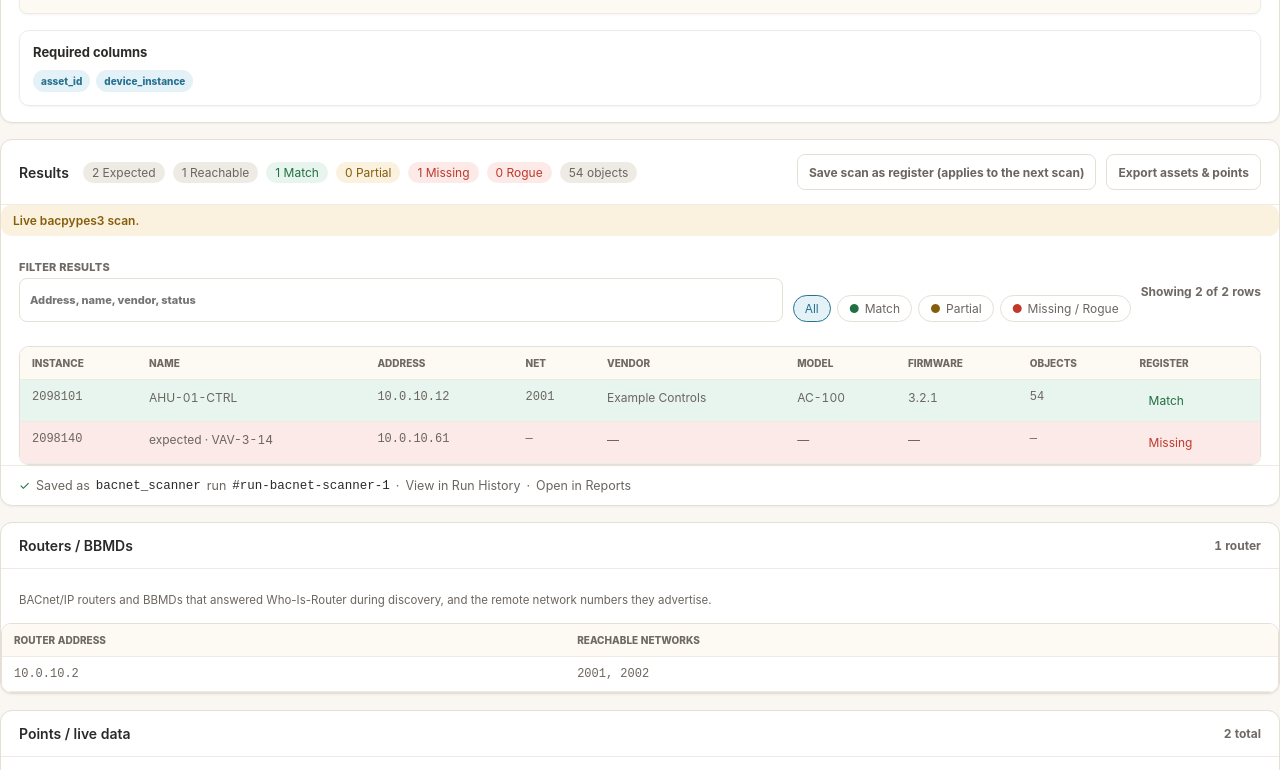
Test: BacnetScannerPage › loads the live object list into the inline grid
(page scrolled)
Click the text "2098101" at (640, 401), box [20,380,1260,422]
(page scrolled)
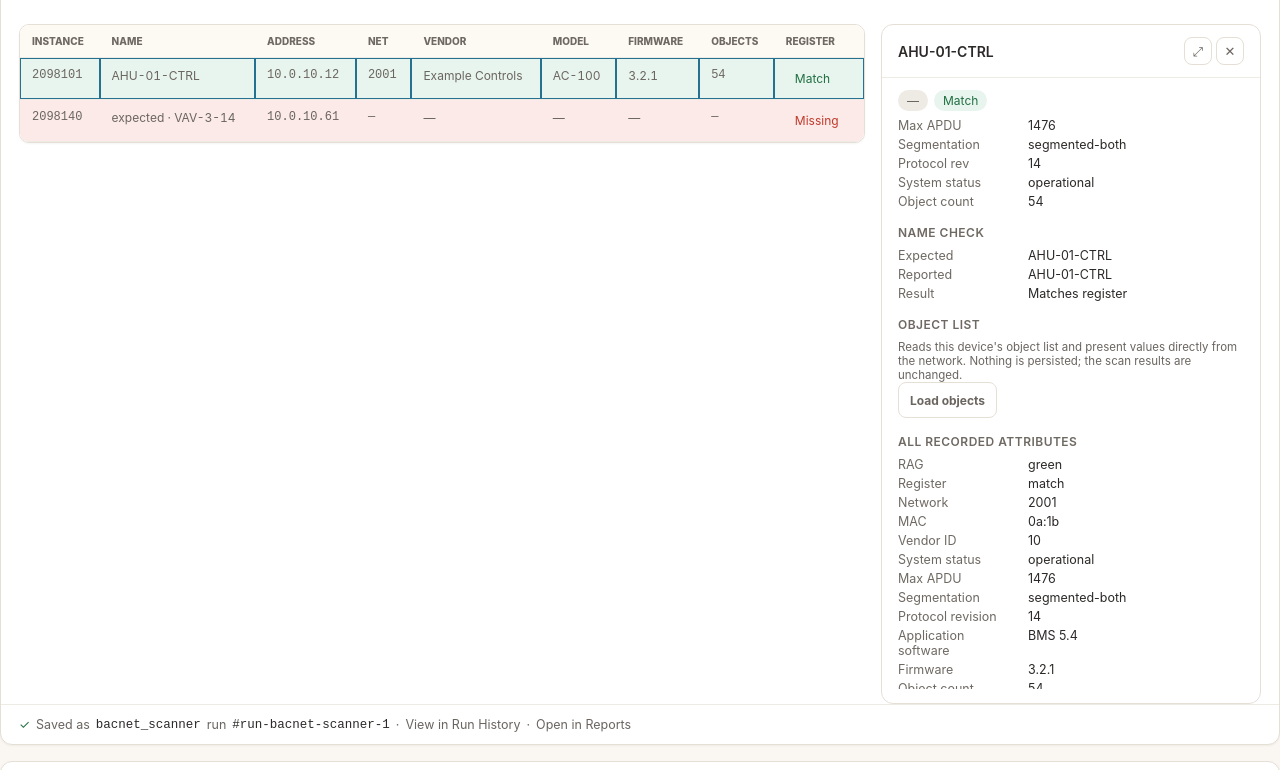
Expected: the heading "AHU-01-CTRL" is shown, [898,43,994,60]
Expected: the text "1476" below "10.0.10.12" is shown, [1028,118,1056,133]
Expected: the text "segmented-both" below "10.0.10.12" is shown, [1028,137,1126,152]
Click the button "Load objects" at (948, 400), box [898,382,997,418]
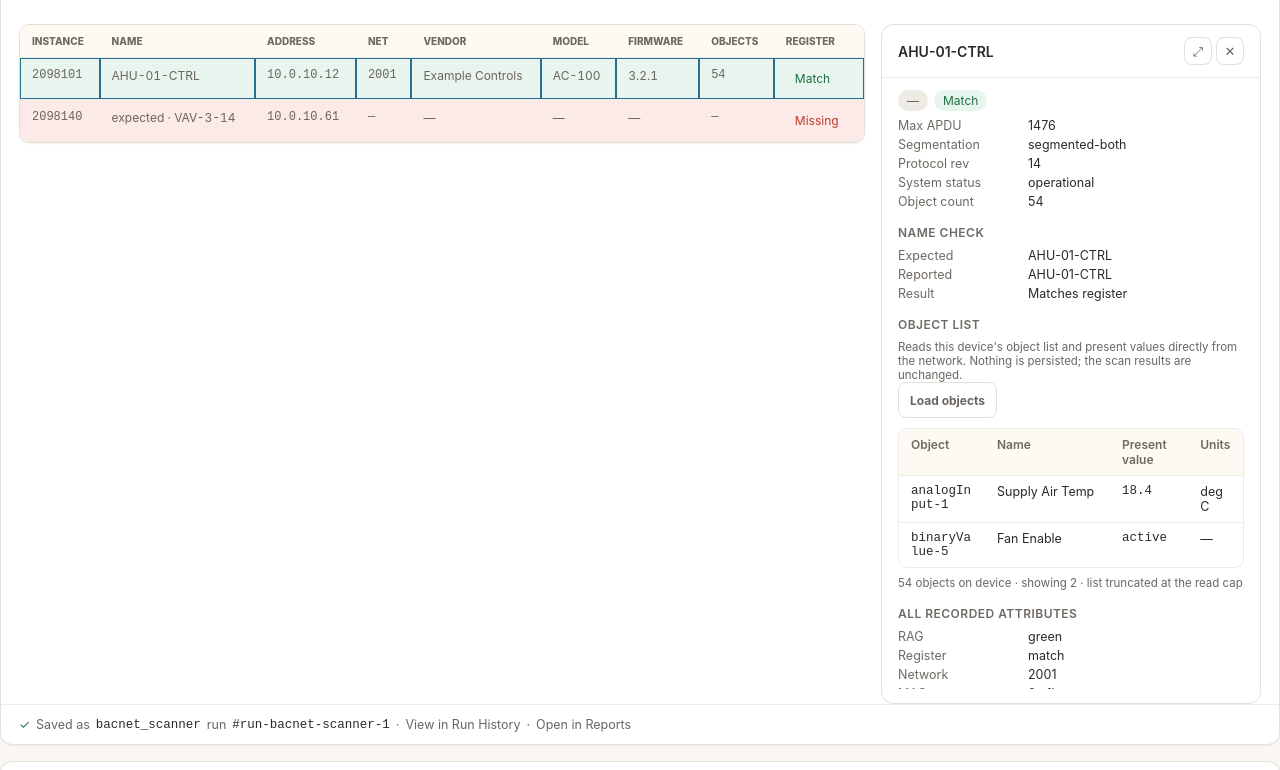
Expected: the text "analogInput-1" is shown, [911,484,971,512]
Expected: the text "Supply Air Temp" is shown, [997,484,1094,499]
Expected: the text "18.4" is shown, [1122,484,1152,498]
